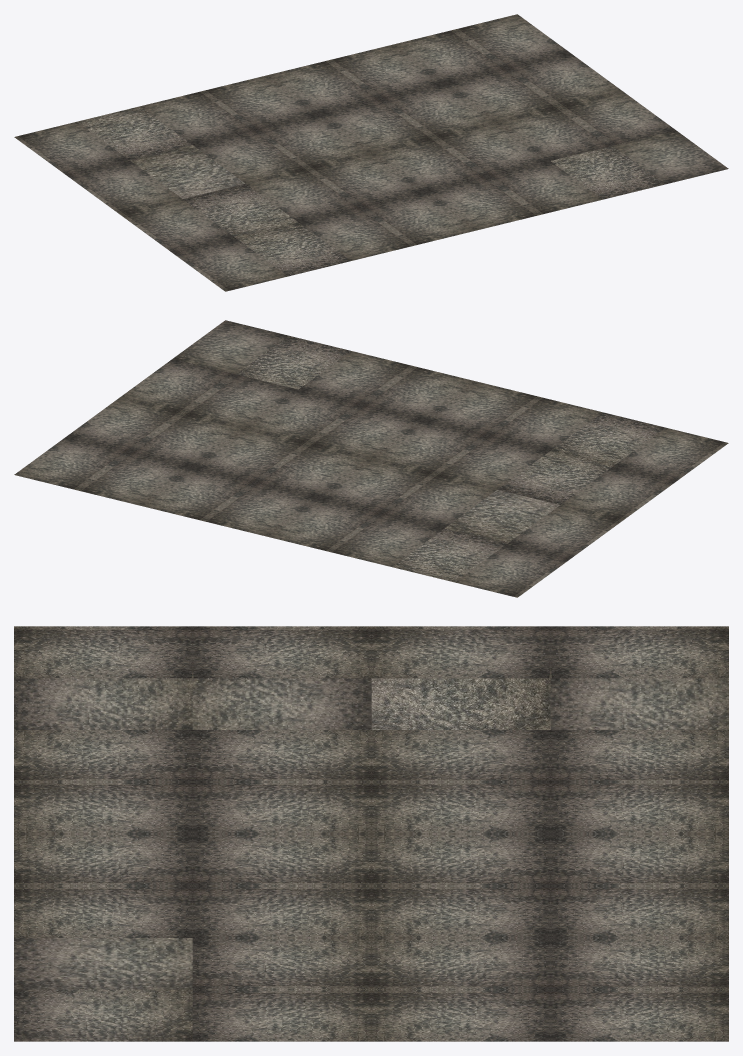
Rendered from floor.fbx.
3 renders of one model, top to bottom at view 1: azimuth 30°, elevation 25°; view 2: azimuth 150°, elevation 25°; view 3: azimuth 270°, elevation 25°, orthographic. The views are drawn at different scales.
Parts seen in each view (by area): view 1: Plane; view 2: Plane; view 3: Plane.
Part boxes in pixels (left/top/right/bottom): Plane: left=14, top=14, right=728, bottom=291; Plane: left=14, top=320, right=728, bottom=597; Plane: left=14, top=626, right=728, bottom=1041.
Bounding box in the file's own units: 1100 × 0.00013 × 800.
